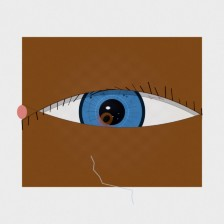foreign_body_visible: (87, 103, 126, 135)
